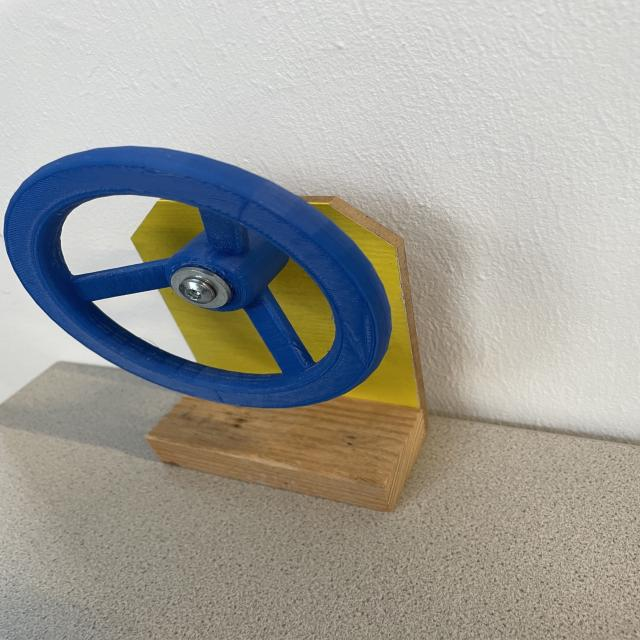Wheel Handle Valve Threaded: (4, 144, 394, 409)
